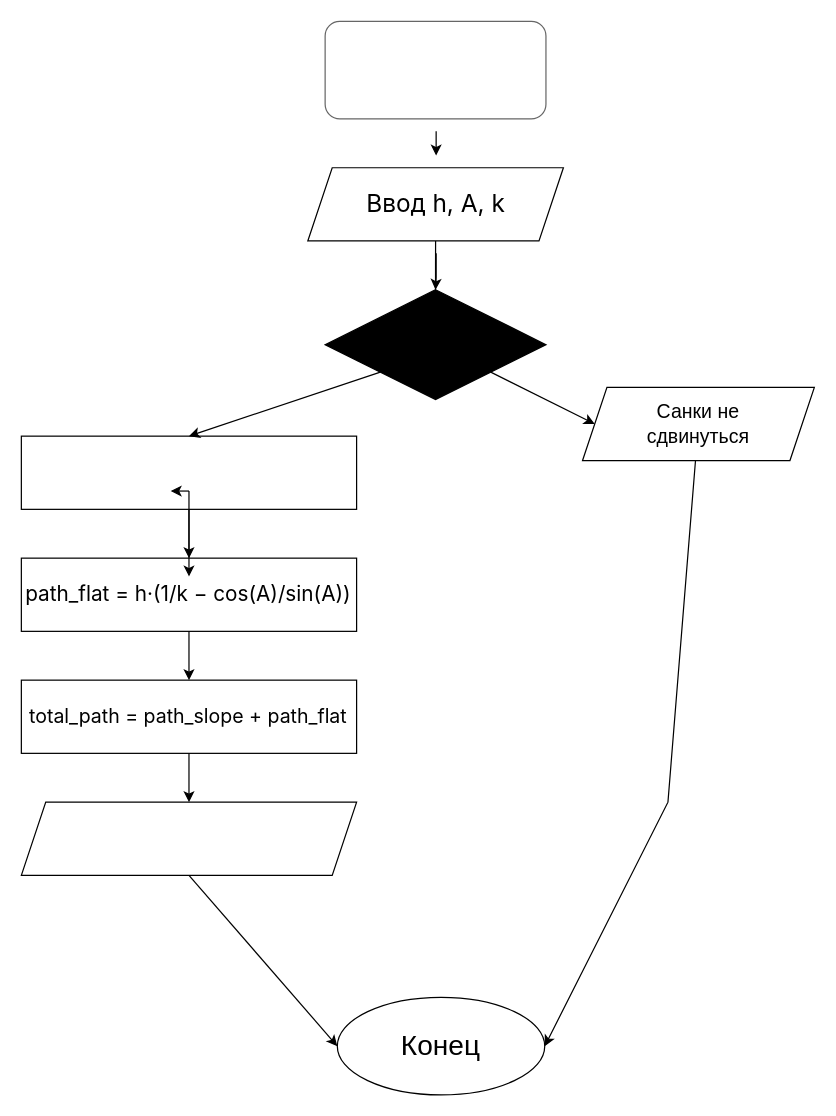
This 836x1116 diagram has some shape labels left out. The shapes that lost their labels are listed below. From the top down, each one's centre as x and y in pixels, then its label:
At (x=435, y=69): "Начало".
At (x=188, y=472): "path_slope = h / sin(A)".
At (x=188, y=838): "Вывод path_slope, path_flat, total_path".
